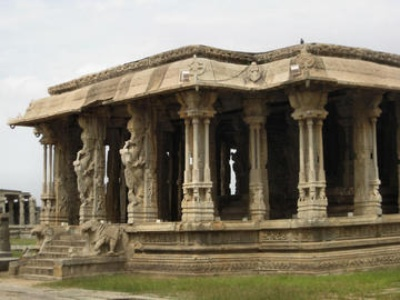mandapa: (22, 37, 375, 229)
